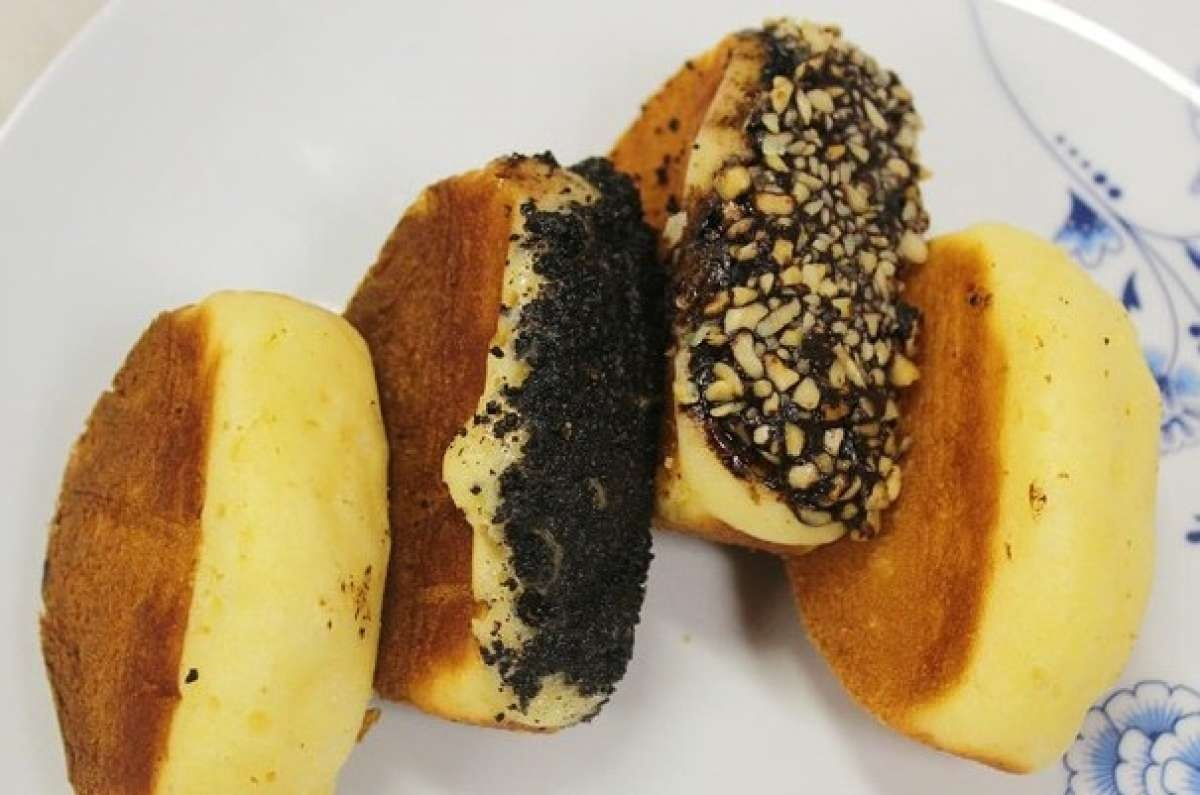pukis: (21, 283, 372, 795)
